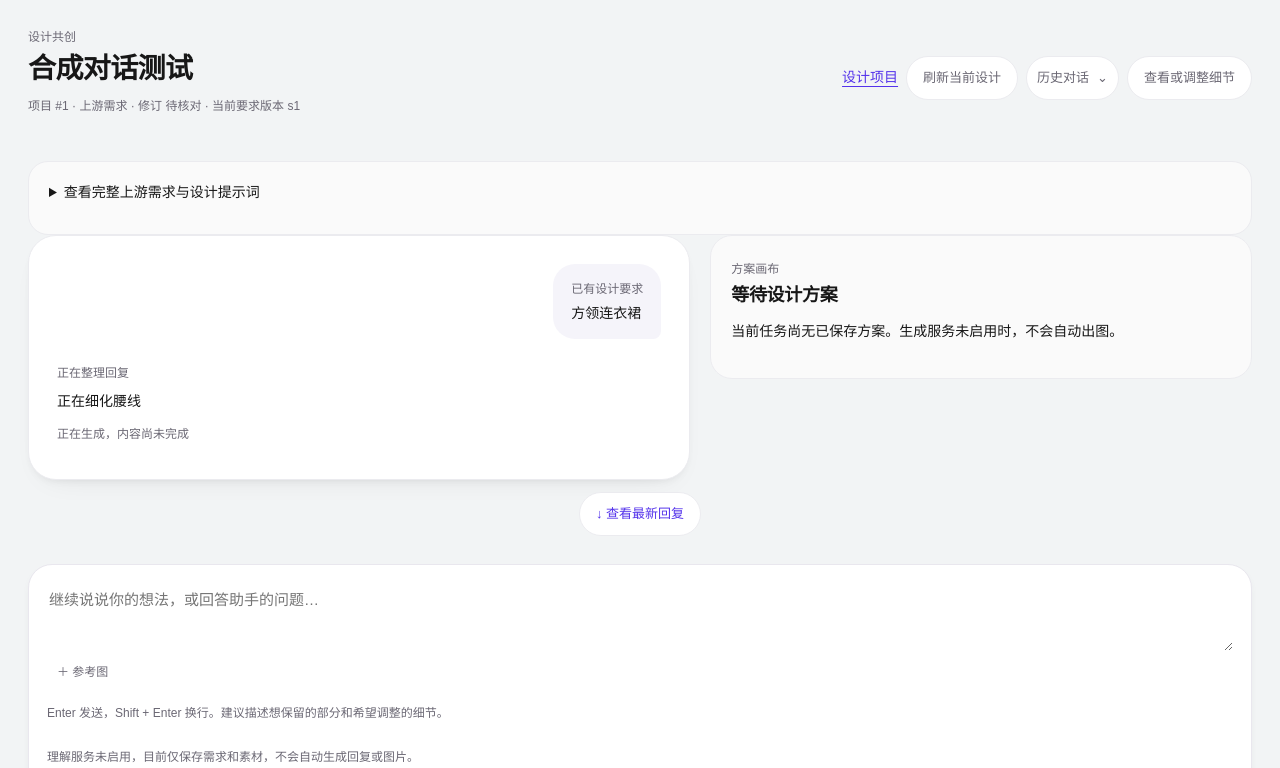
it: 阅读旧消息时流式更新不抢滚动位置，点击最新回复后才跟随
(page scrolled)
Expected: the text box labelled "发消息给设计助手" is shown, [47,579,1233,651]
Step 1. Click the button "↓ 查看最新回复" → (640, 514), box [579,492,701,536]
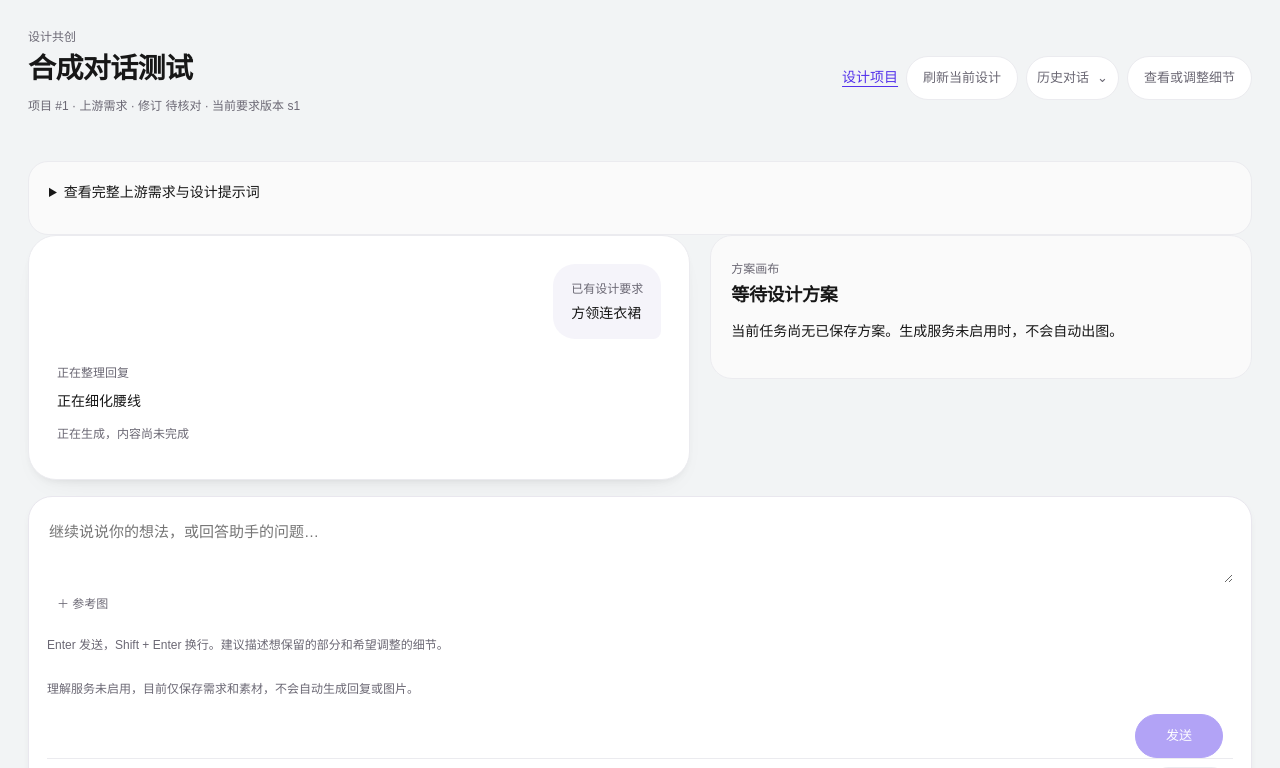
Expected: the button "查看最新回复" is gone
